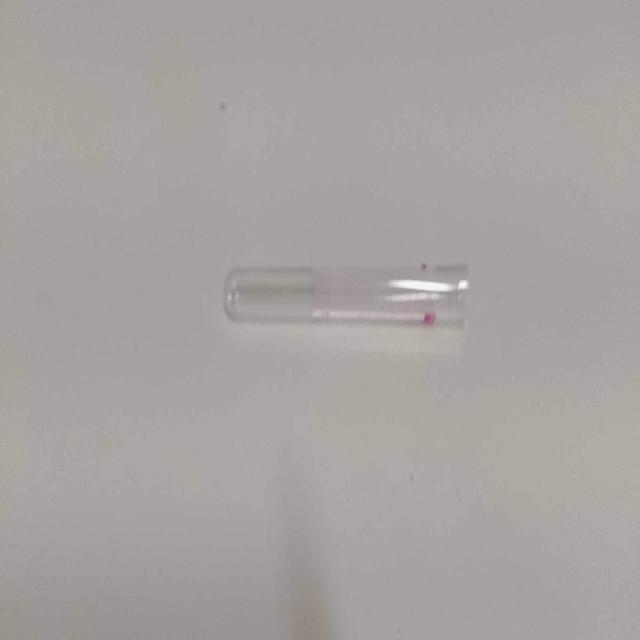Sharps: (224, 261, 472, 331)
